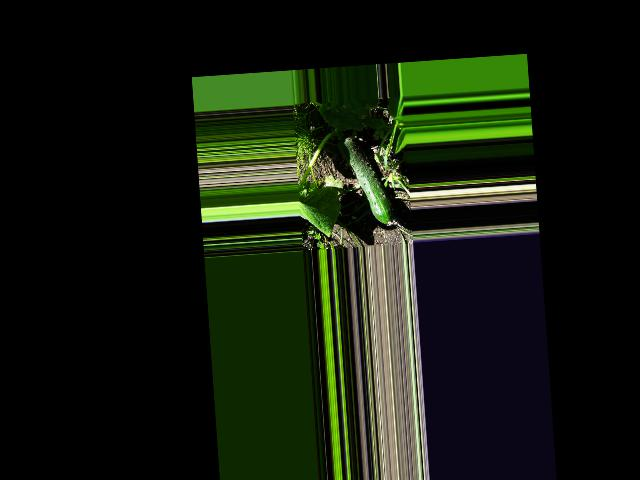cucumber: (337, 132, 394, 228)
